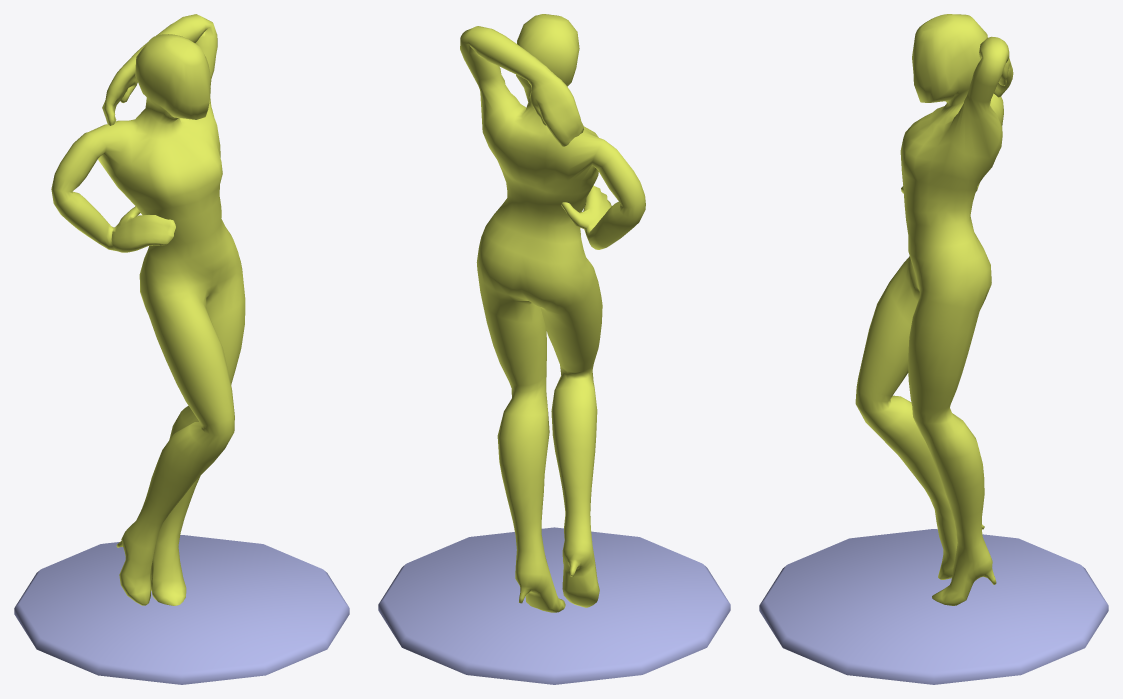
File: mannequin_2.fbx
3 renders of one model, left to right at view 1: azimuth 30°, elevation 25°; view 2: azimuth 150°, elevation 25°; view 3: azimuth 270°, elevation 25°, orthographic. The views are drawn at different scales.
Visible parts, largest first — view 1: mannequin_2; view 2: mannequin_2; view 3: mannequin_2.
Boxes of the visible parts, <box> form: mannequin_2: <box>14,14,349,684</box>; mannequin_2: <box>378,14,730,684</box>; mannequin_2: <box>759,14,1108,684</box>.
Bounding box in the file's own units: 6.73 × 12.62 × 6.73.
